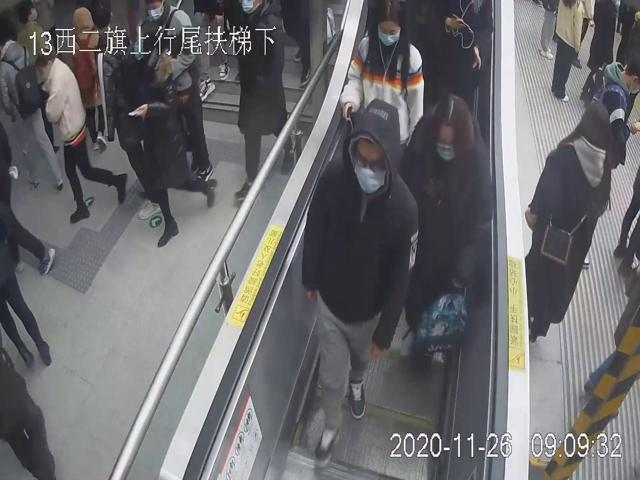person: (301, 94, 419, 467), (401, 92, 495, 364), (522, 96, 613, 345), (33, 45, 127, 225), (336, 0, 424, 166)
